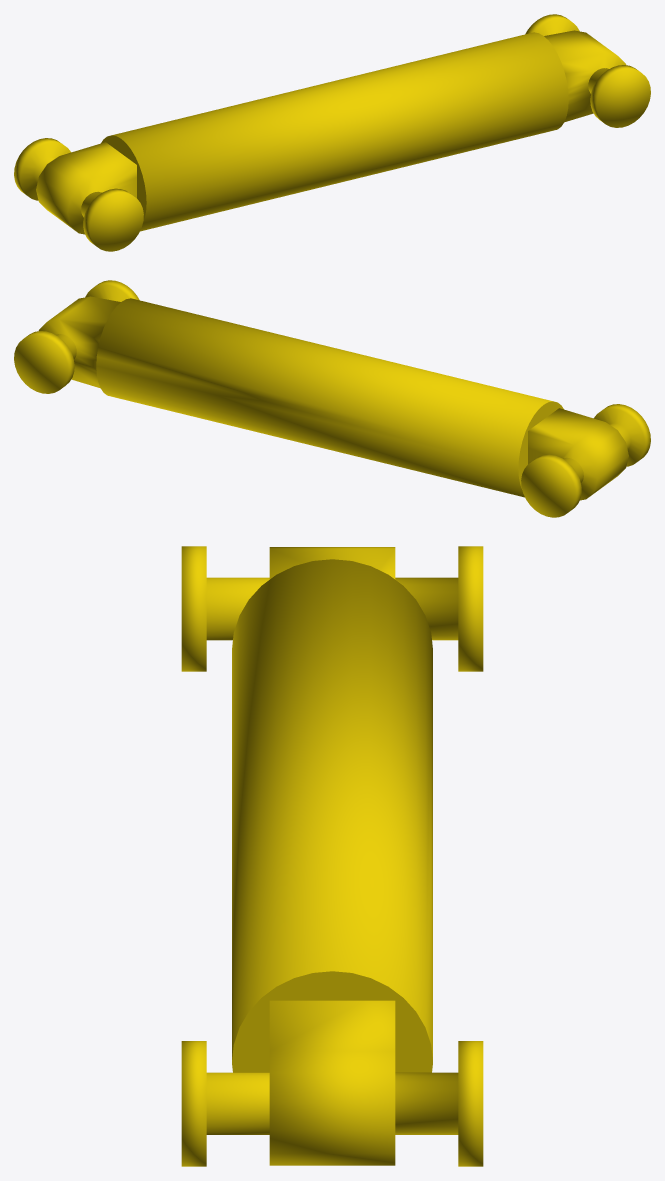
The model's file is connector_to_bucket.dae.
3 renders of one model, top to bottom at view 1: azimuth 30°, elevation 25°; view 2: azimuth 150°, elevation 25°; view 3: azimuth 270°, elevation 25°, orthographic. The views are drawn at different scales.
Parts seen in each view (by area): view 1: part; view 2: part; view 3: part.
Boxes of the visible parts, left/top/right/bottom form: part: left=14, top=14, right=650, bottom=251; part: left=14, top=280, right=650, bottom=517; part: left=181, top=546, right=483, bottom=1166.
Bounding box in the file's own units: 1.03 × 0.24 × 0.16.
